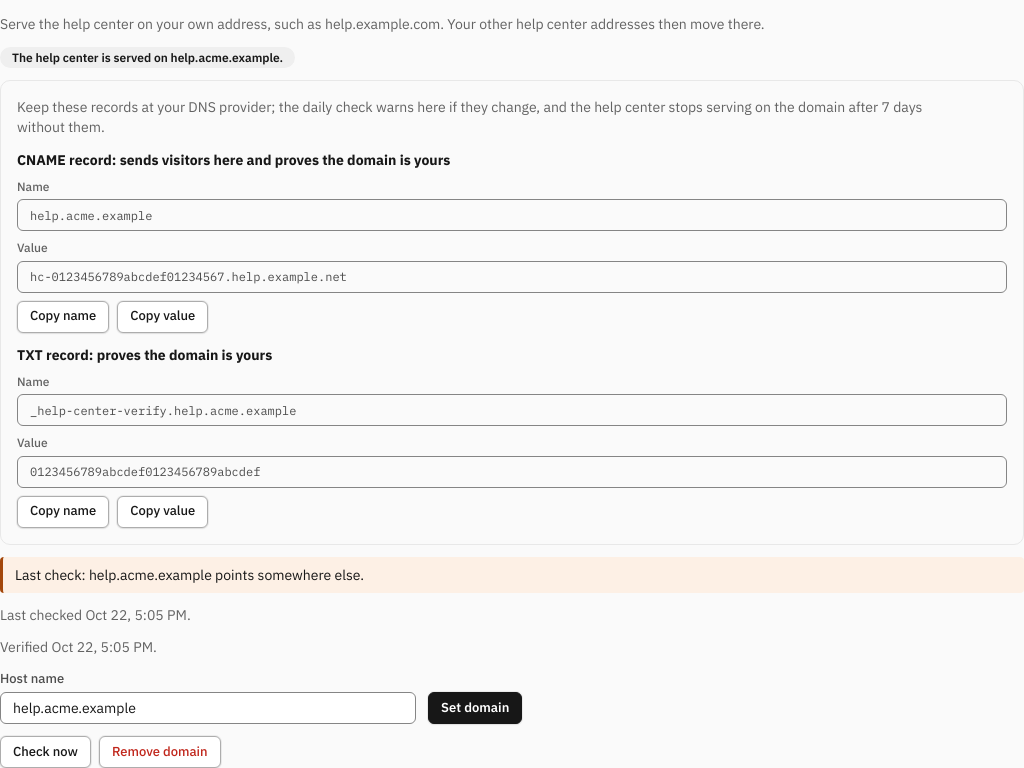
Scenario: an active domain warns when the daily check fails, and Remove asks before it removes
The width and height of the screenshot is (1024, 768).
(page scrolled)
Click the button "Remove domain" at (160, 752), box [99,736,221,767]
(page scrolled)
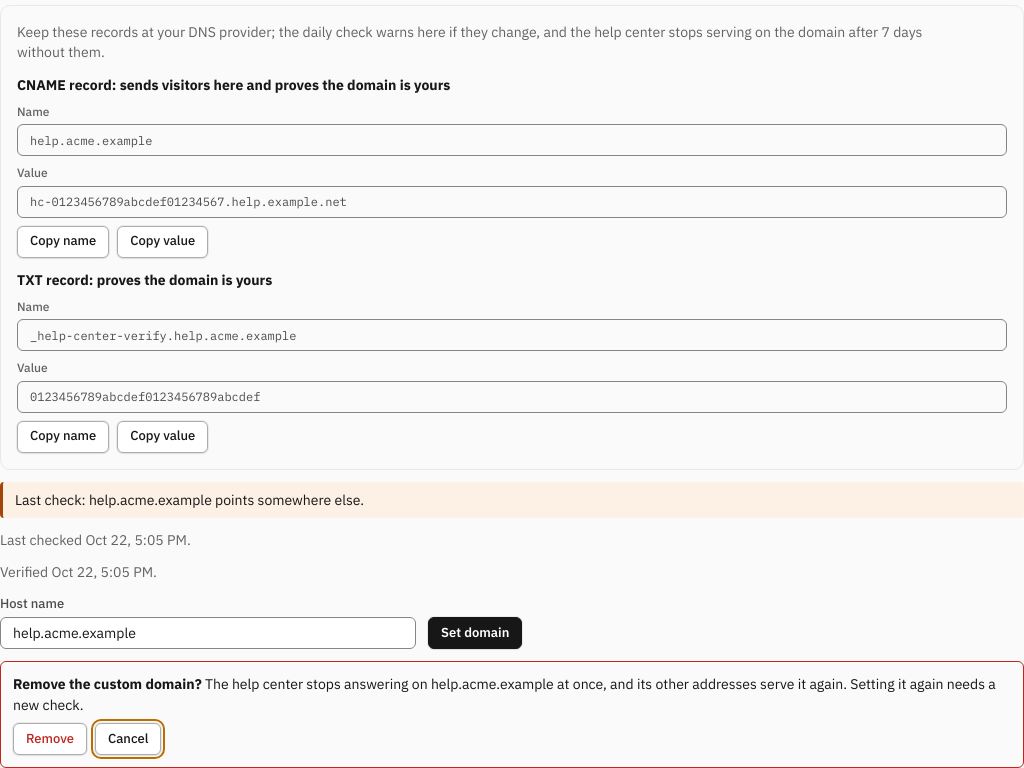
Press Escape in the element "Remove the custom domain?", box [0,662,1023,767]
(page scrolled)
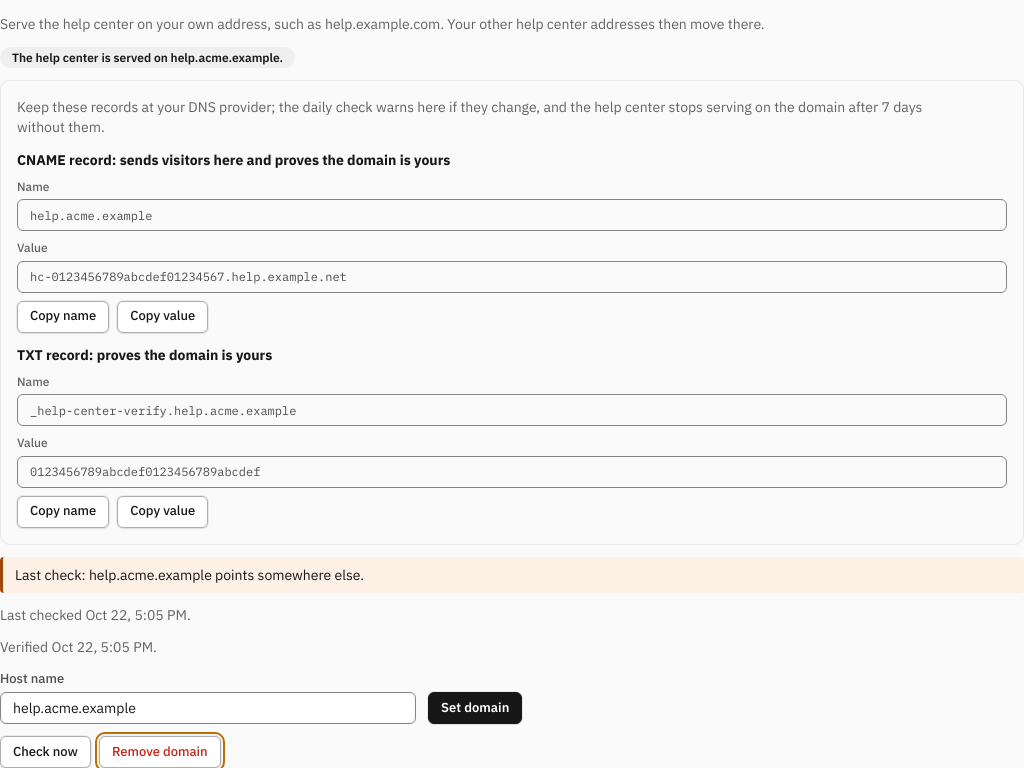
Click the button "Remove domain" at (160, 752), box [99,736,221,767]
(page scrolled)
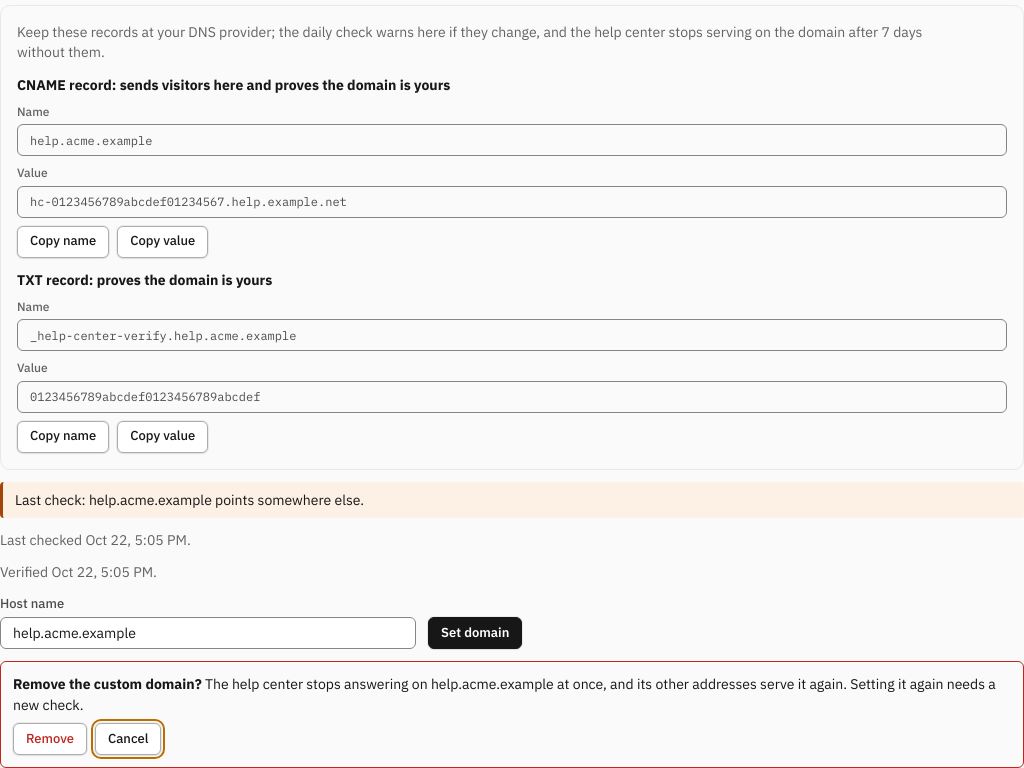
Click the button "Remove" at (50, 739), box [13,723,87,755]
(page scrolled)
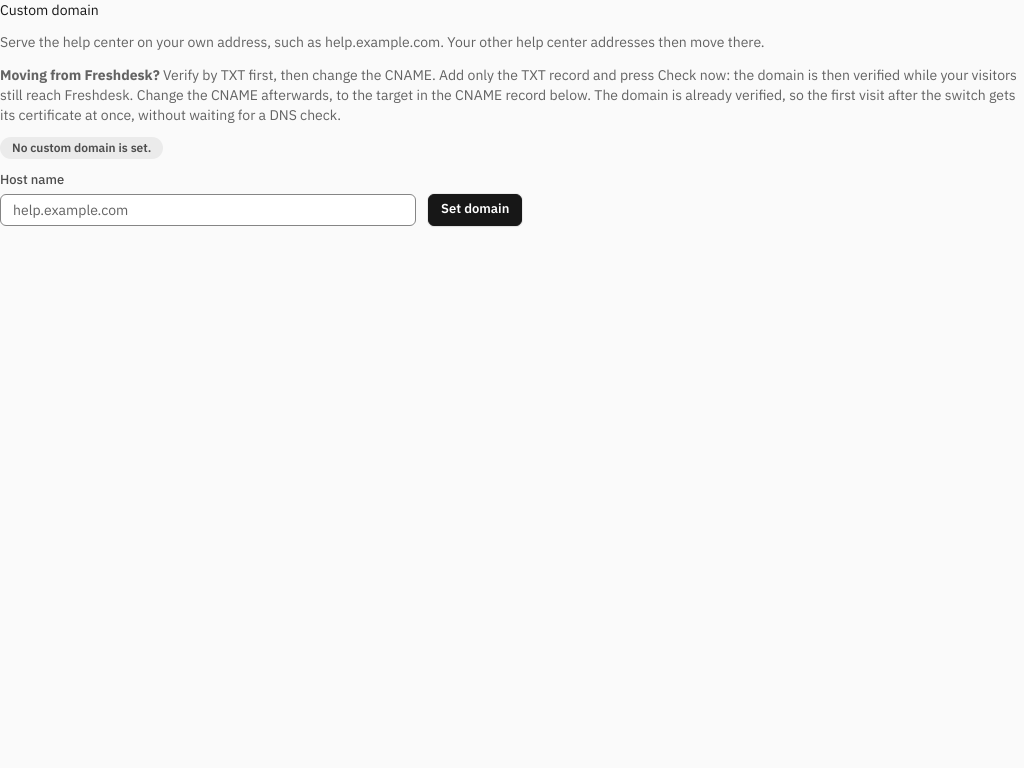
Result: the text "No custom domain is set." is shown at [0,138,163,159]
